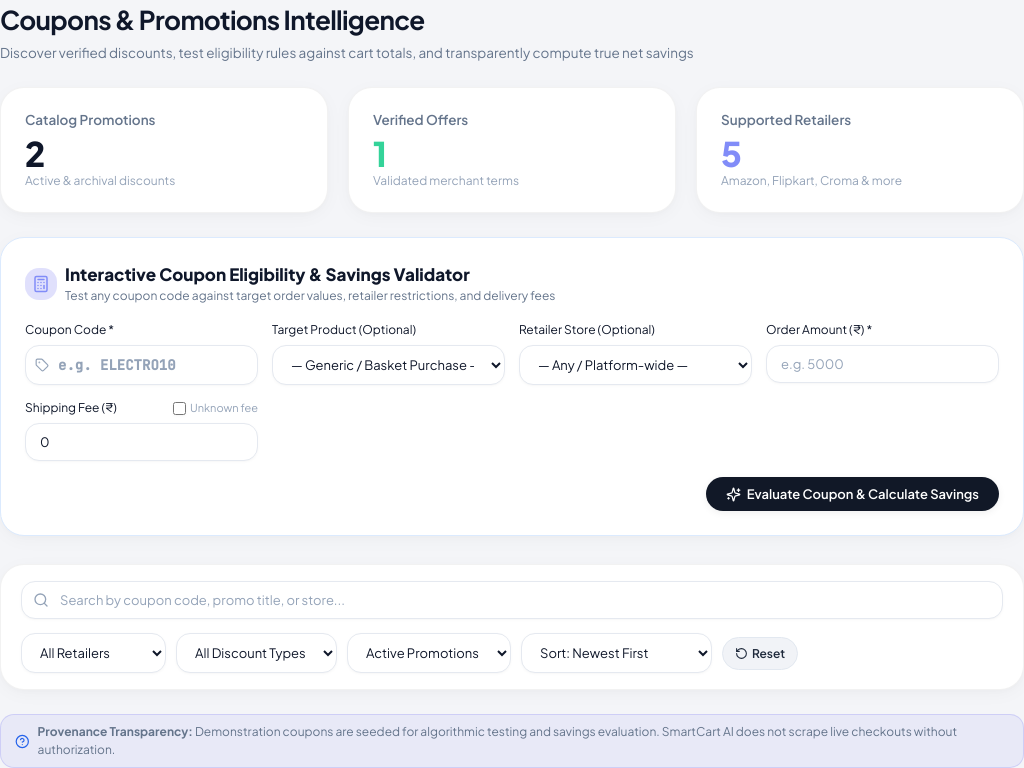
Test: Coupons Component › handles coupon validation and displays savings summary
The width and height of the screenshot is (1024, 768).
// Enter coupon code and order amount, then validate
In the field with placeholder "e.g. ELECTRO10": (142,365) [25, 345, 258, 385], type "ELECTRO10"
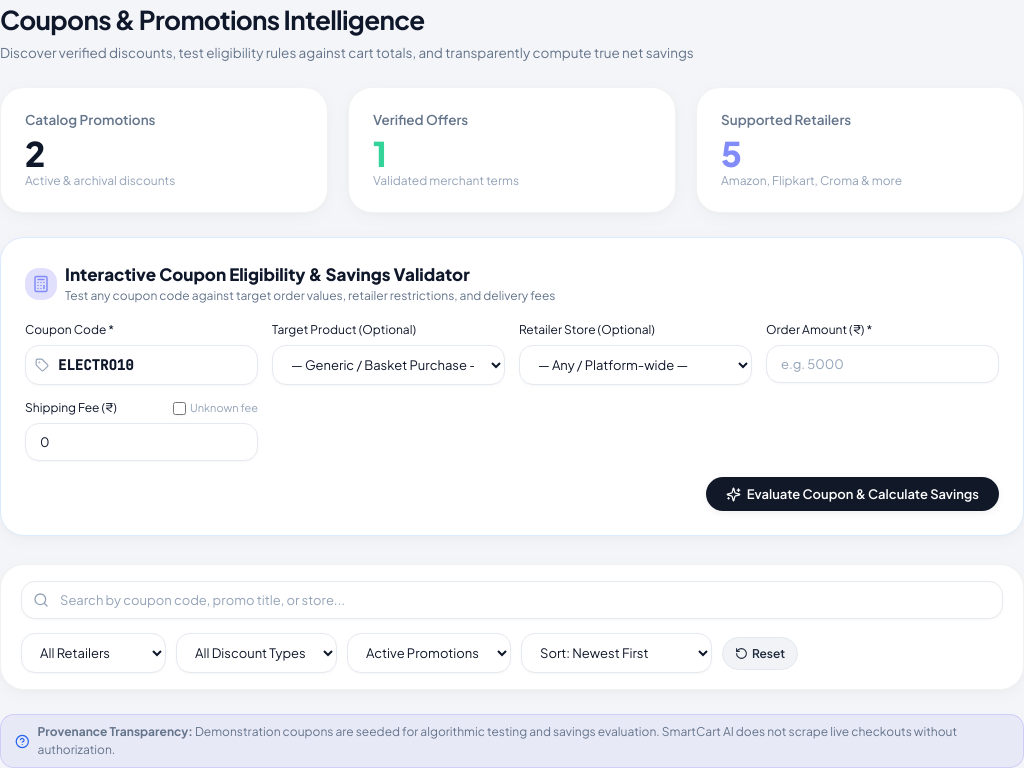
In the number field with placeholder "e.g. 5000": (882,364) [766, 345, 999, 383], type "15000"
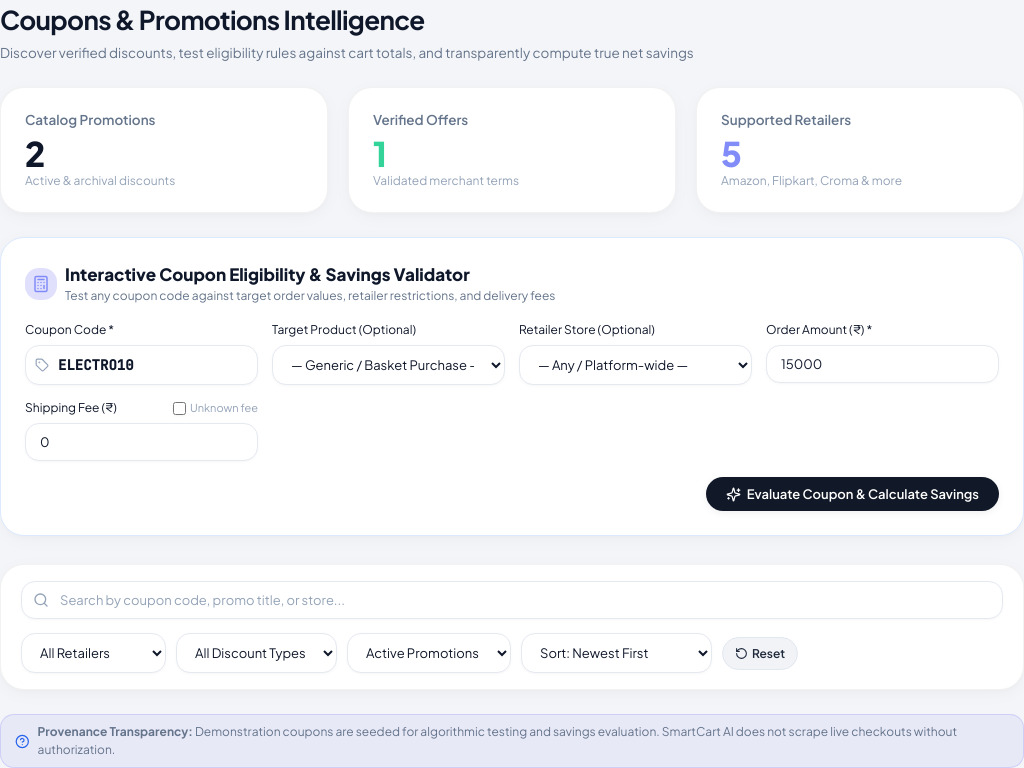
Click the button "Evaluate Coupon & Calculate Savings": (852,494) [706, 477, 999, 511]
(page scrolled)
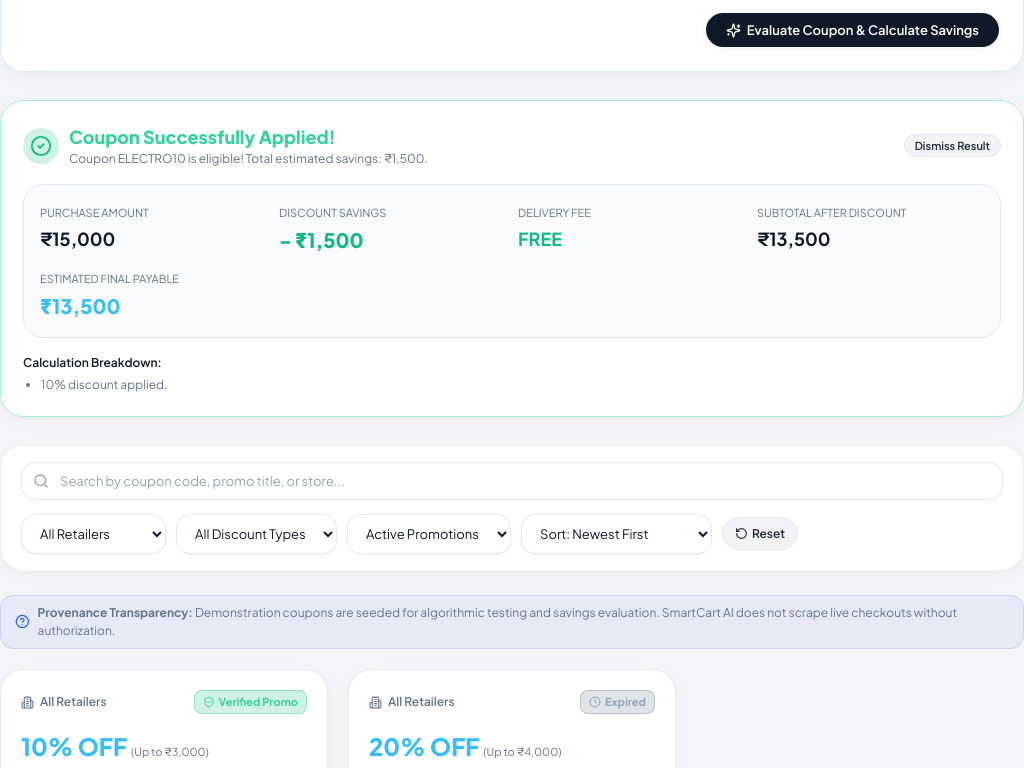
Check: the heading "Coupon Successfully Applied!" is shown, box [69, 125, 336, 148]
Check: the list item "10% discount applied." is shown, box [41, 377, 168, 392]
